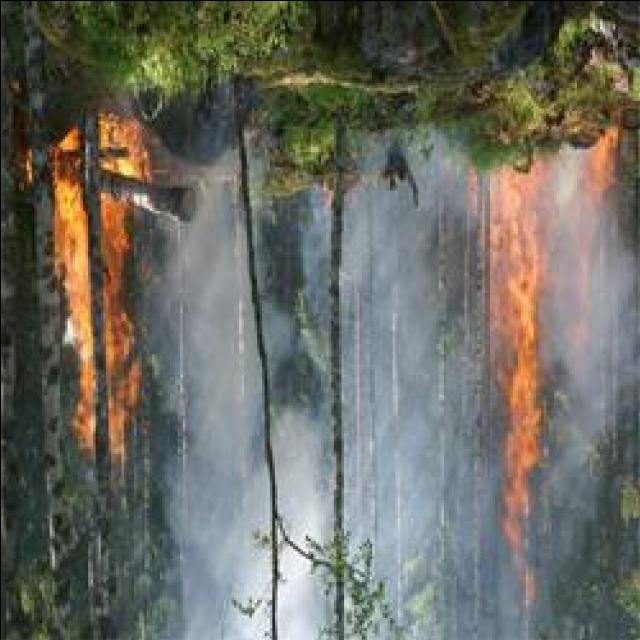fire: (504, 253, 544, 409), (54, 184, 90, 304)
smoke: (546, 242, 640, 371), (188, 294, 260, 449), (272, 406, 328, 536), (344, 212, 422, 294), (550, 152, 584, 208)
